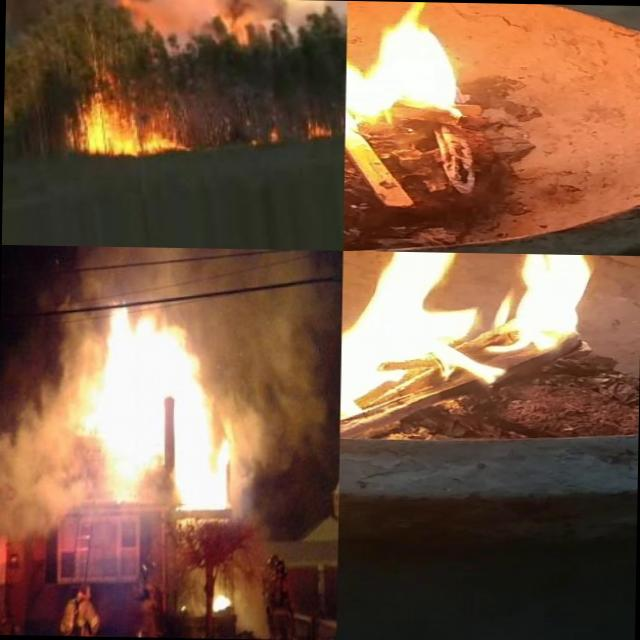fire: (339, 250, 606, 438), (344, 1, 498, 142), (95, 294, 168, 488), (175, 321, 236, 513), (6, 91, 122, 160), (239, 122, 286, 151), (298, 112, 336, 144), (208, 586, 234, 616)
smoke: (0, 295, 98, 542), (232, 296, 336, 524), (134, 0, 306, 52), (307, 0, 346, 11)
